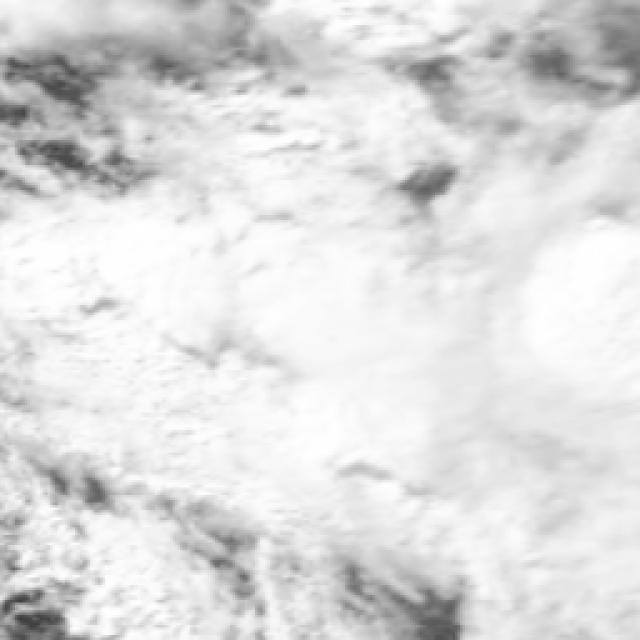CB: (505, 365, 640, 640), (497, 160, 640, 380), (128, 352, 319, 515), (254, 230, 402, 433), (0, 223, 135, 445), (91, 212, 251, 388), (368, 282, 518, 462), (197, 122, 398, 250), (308, 434, 518, 556), (76, 525, 189, 639)
